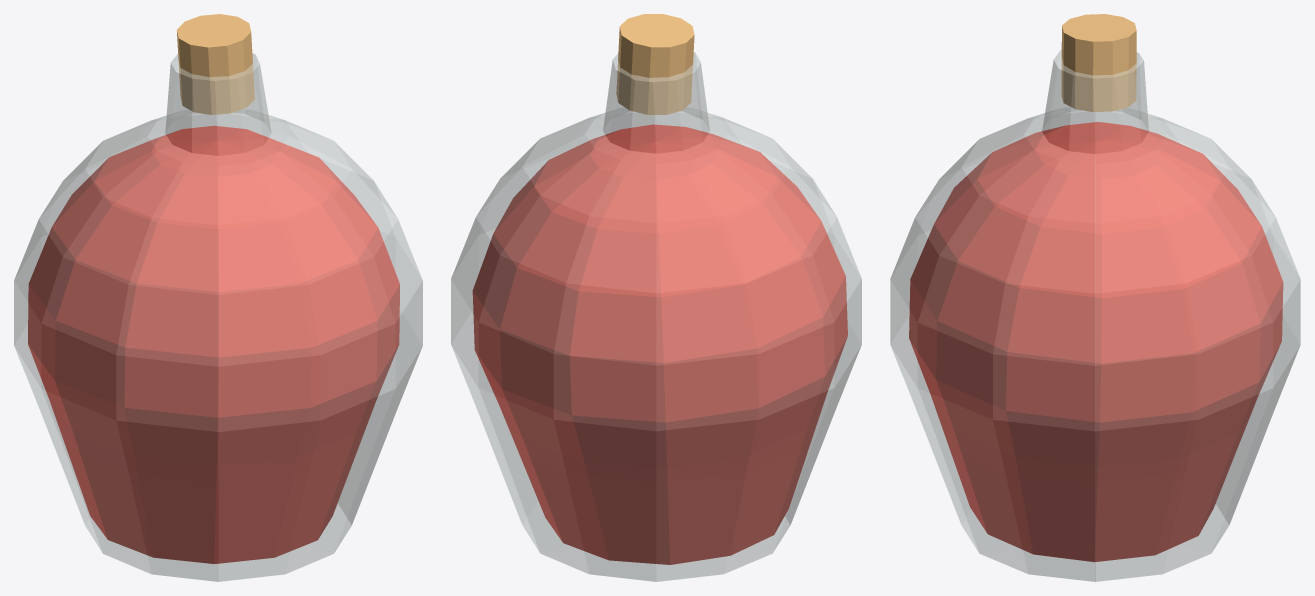
Rendered from ComplexHealthPotion.glb.
3 views of the same model, side by side, from view 1: azimuth 30°, elevation 25°; view 2: azimuth 150°, elevation 25°; view 3: azimuth 270°, elevation 25° (orthographic).
Parts seen in each view (by area): view 1: group113547677, group188106568, group688645330; view 2: group113547677, group188106568, group688645330; view 3: group113547677, group188106568, group688645330.
Part boxes in pixels (<box>): group113547677: <box>14,53,422,581</box>; group188106568: <box>28,125,399,563</box>; group688645330: <box>177,14,254,114</box>; group113547677: <box>451,52,861,581</box>; group188106568: <box>472,124,847,564</box>; group688645330: <box>616,14,694,114</box>; group113547677: <box>890,50,1300,581</box>; group188106568: <box>909,122,1283,561</box>; group688645330: <box>1061,14,1136,111</box>.
Size of the model in its own units: 0.1083 by 0.145 by 0.1083.
